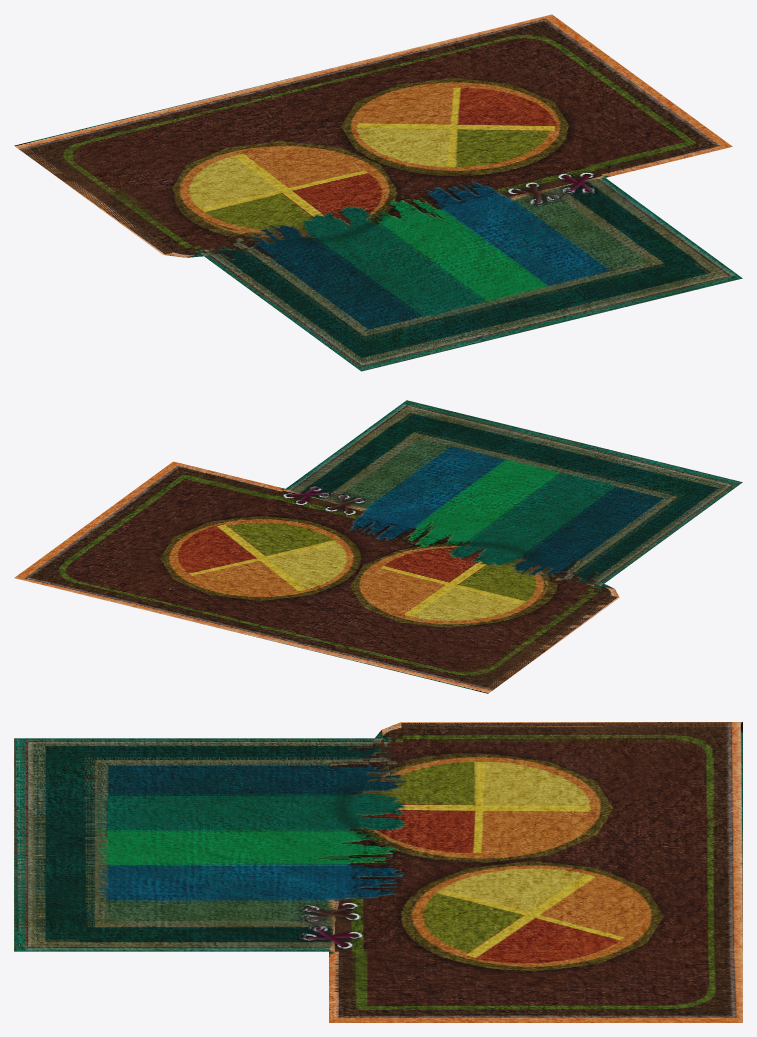
The model's file is M_Home_Garden_Carpet_016.fbx.
3 views of the same model, one above another, from view 1: azimuth 30°, elevation 25°; view 2: azimuth 150°, elevation 25°; view 3: azimuth 270°, elevation 25° (orthographic). The views are drawn at different scales.
Visible parts, largest first — view 1: M_Home_Garden_Carpet_016; view 2: M_Home_Garden_Carpet_016; view 3: M_Home_Garden_Carpet_016.
Part boxes in pixels (x1,y1,x2,y2): M_Home_Garden_Carpet_016: (14, 14, 742, 371); M_Home_Garden_Carpet_016: (14, 400, 742, 693); M_Home_Garden_Carpet_016: (14, 722, 742, 1022).
Bounding box in the file's own units: 293 × 0.6519 × 300.
